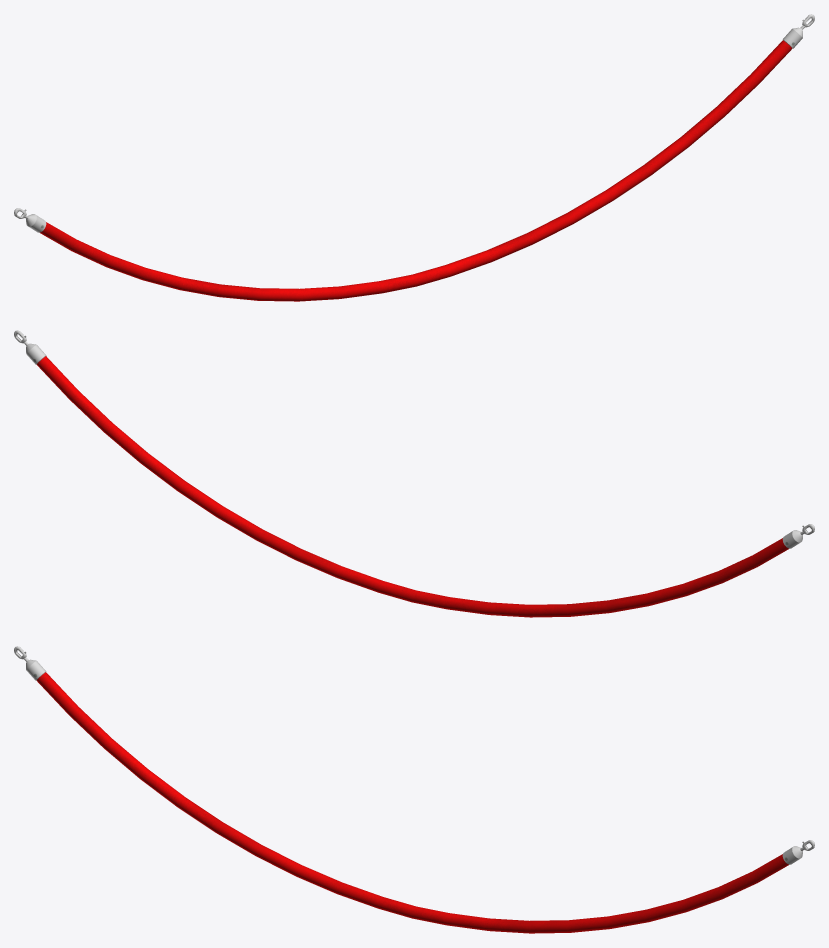
File: BarrierRope01_5.FBX
3 renders of one model, top to bottom at view 1: azimuth 30°, elevation 25°; view 2: azimuth 150°, elevation 25°; view 3: azimuth 330°, elevation 25°, orthographic.
Visible parts, largest first — view 1: BarrierRope05; view 2: BarrierRope05; view 3: BarrierRope05.
Part boxes in pixels (x1,y1,x2,y2): BarrierRope05: [14, 14, 814, 301]; BarrierRope05: [14, 330, 814, 617]; BarrierRope05: [14, 646, 814, 933].
Bounding box in the file's own units: 194 × 40.41 × 2.99.
